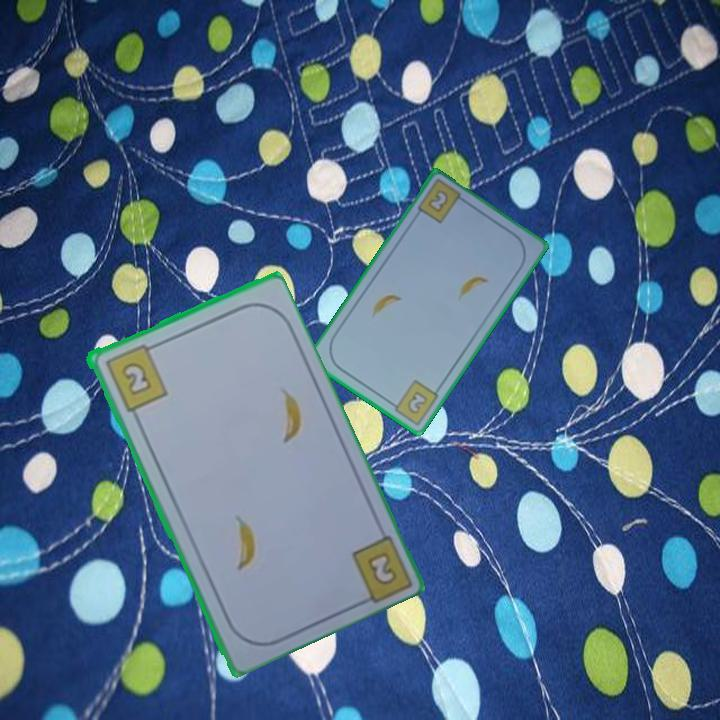2b: (101, 340, 170, 414), (385, 376, 442, 428), (366, 551, 397, 585), (424, 186, 452, 216)
